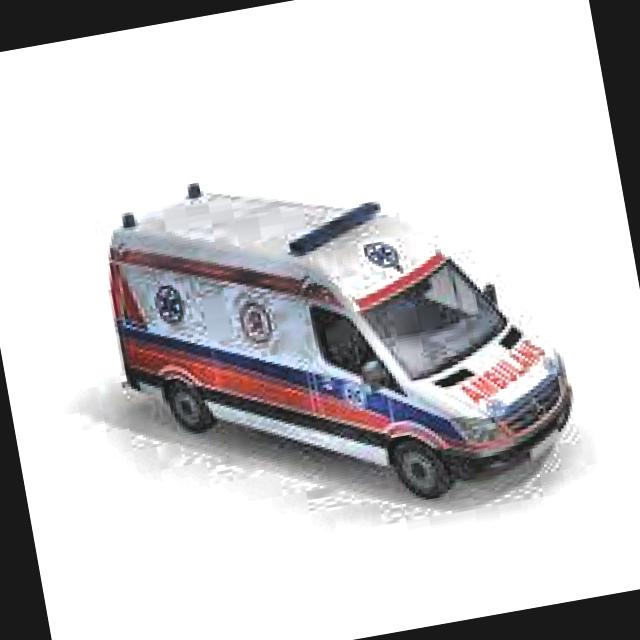Ambulance: (95, 124, 586, 544)
